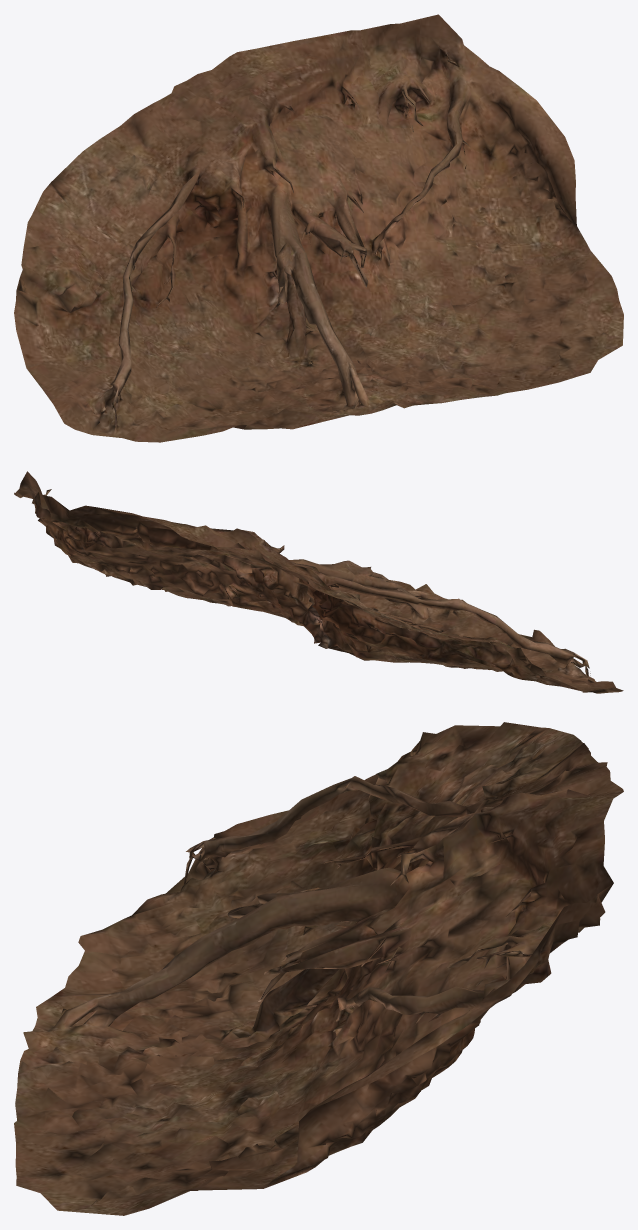
File: root_cluster_01_wood.glb
The picture shows the model from 3 angles, top to bottom: view 1: azimuth 30°, elevation 25°; view 2: azimuth 150°, elevation 25°; view 3: azimuth 270°, elevation 25°; orthographic projection. The views are drawn at different scales.
Parts seen in each view (by area): view 1: root_cluster_01; view 2: root_cluster_01; view 3: root_cluster_01.
Boxes of the visible parts, bbox=[...] form: root_cluster_01: bbox=[14, 14, 623, 442]; root_cluster_01: bbox=[14, 471, 623, 693]; root_cluster_01: bbox=[14, 722, 623, 1215].
Bounding box in the file's own units: 4.12 × 1.51 × 2.68.
1 material, 1 textured.
